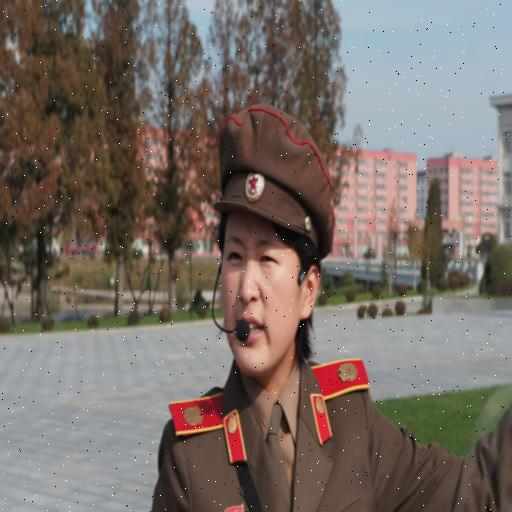north army: (127, 96, 512, 512)
